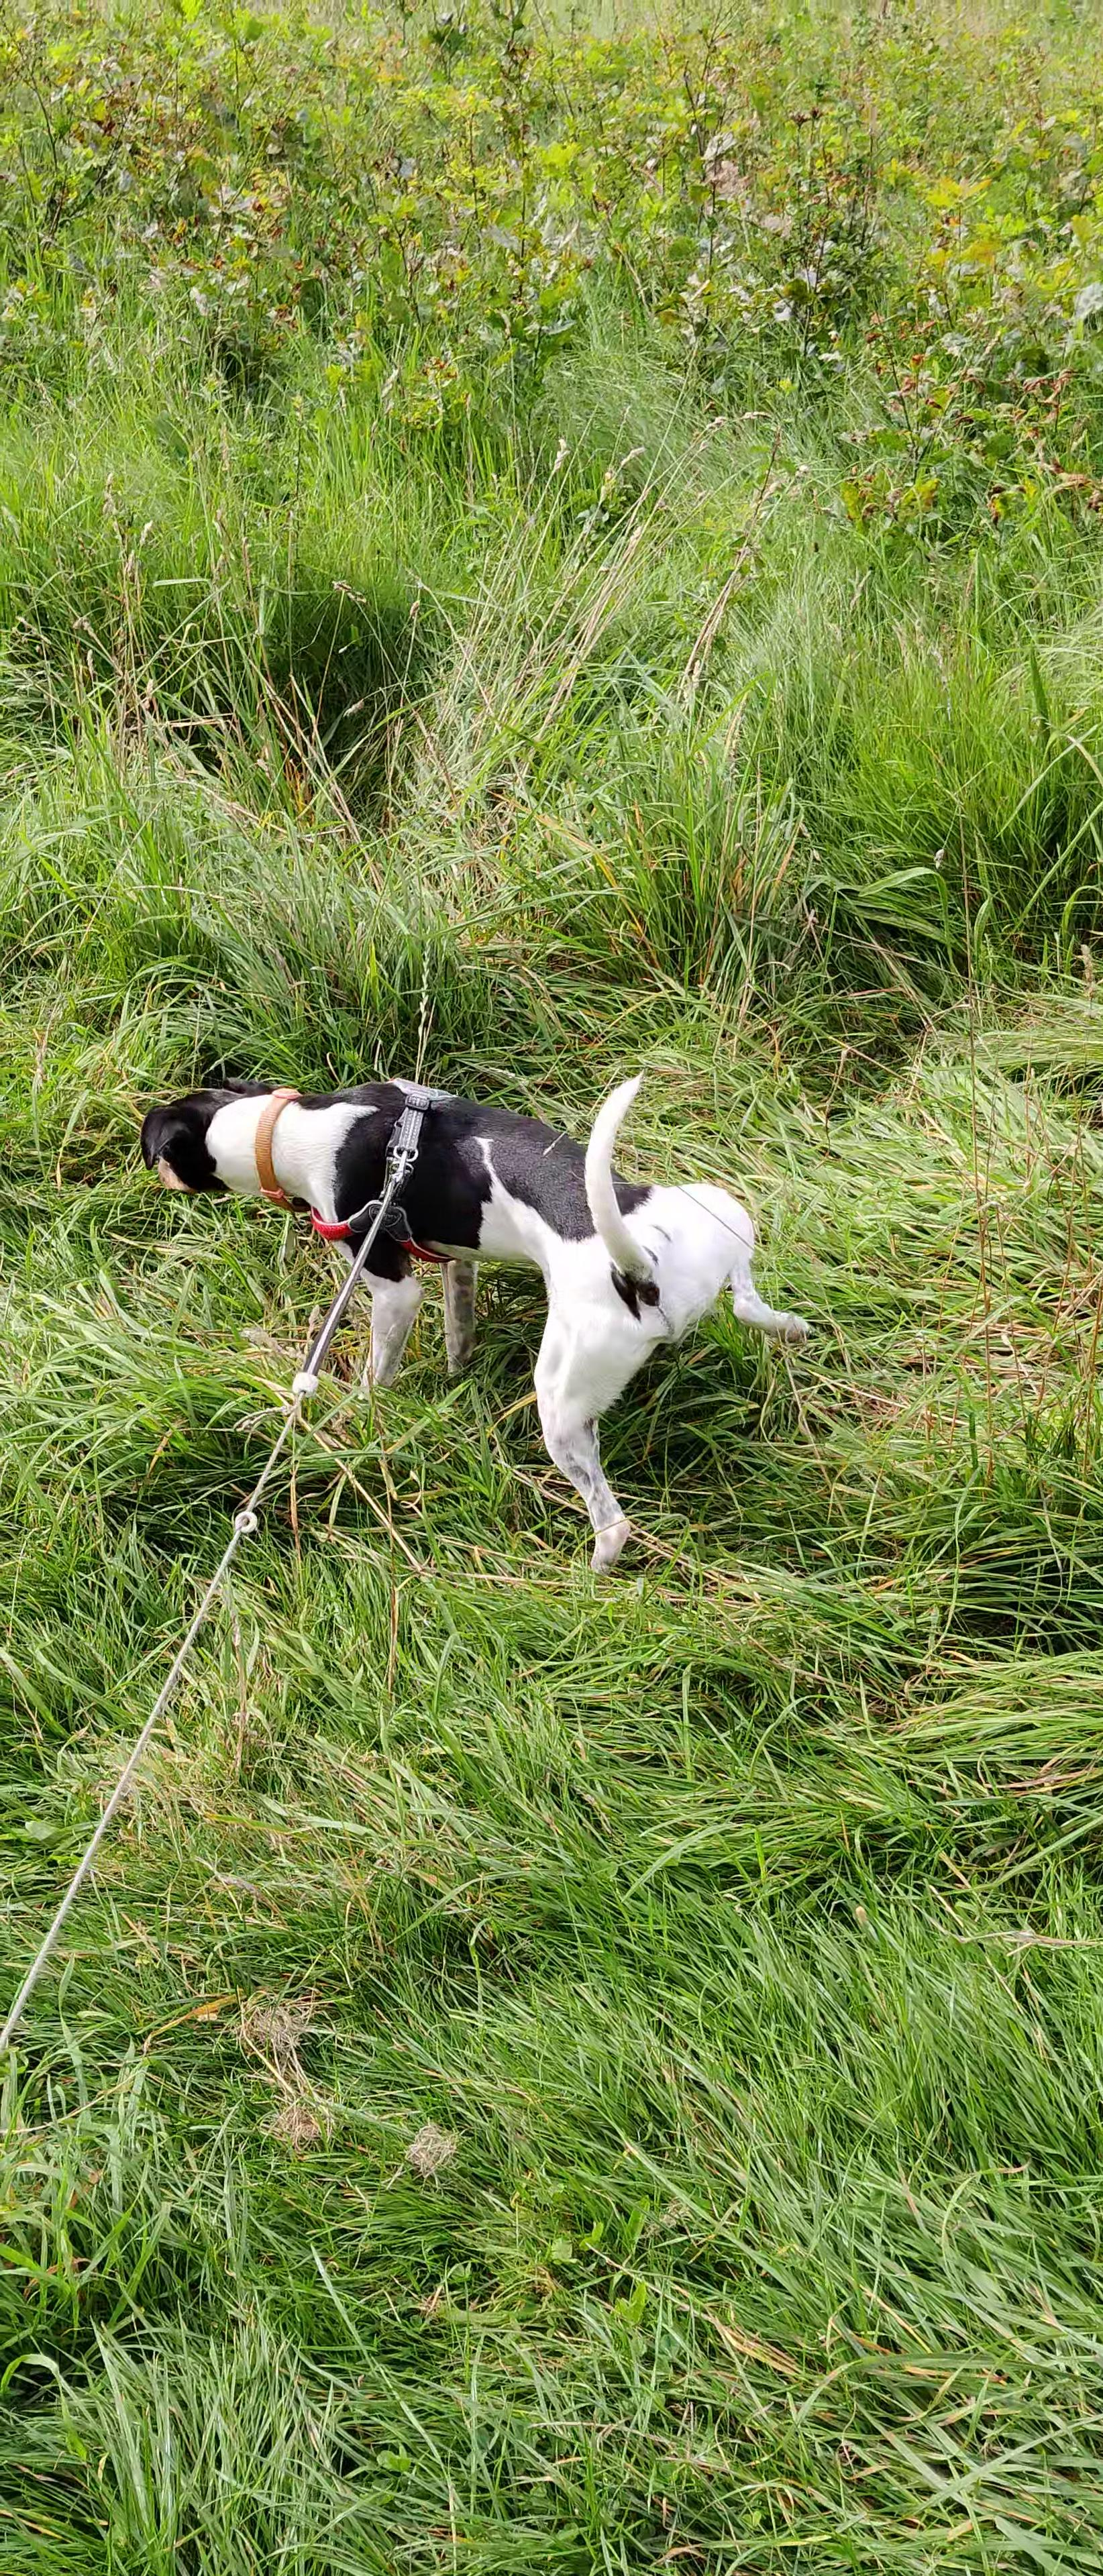Dog: (138, 1019, 828, 1595)
